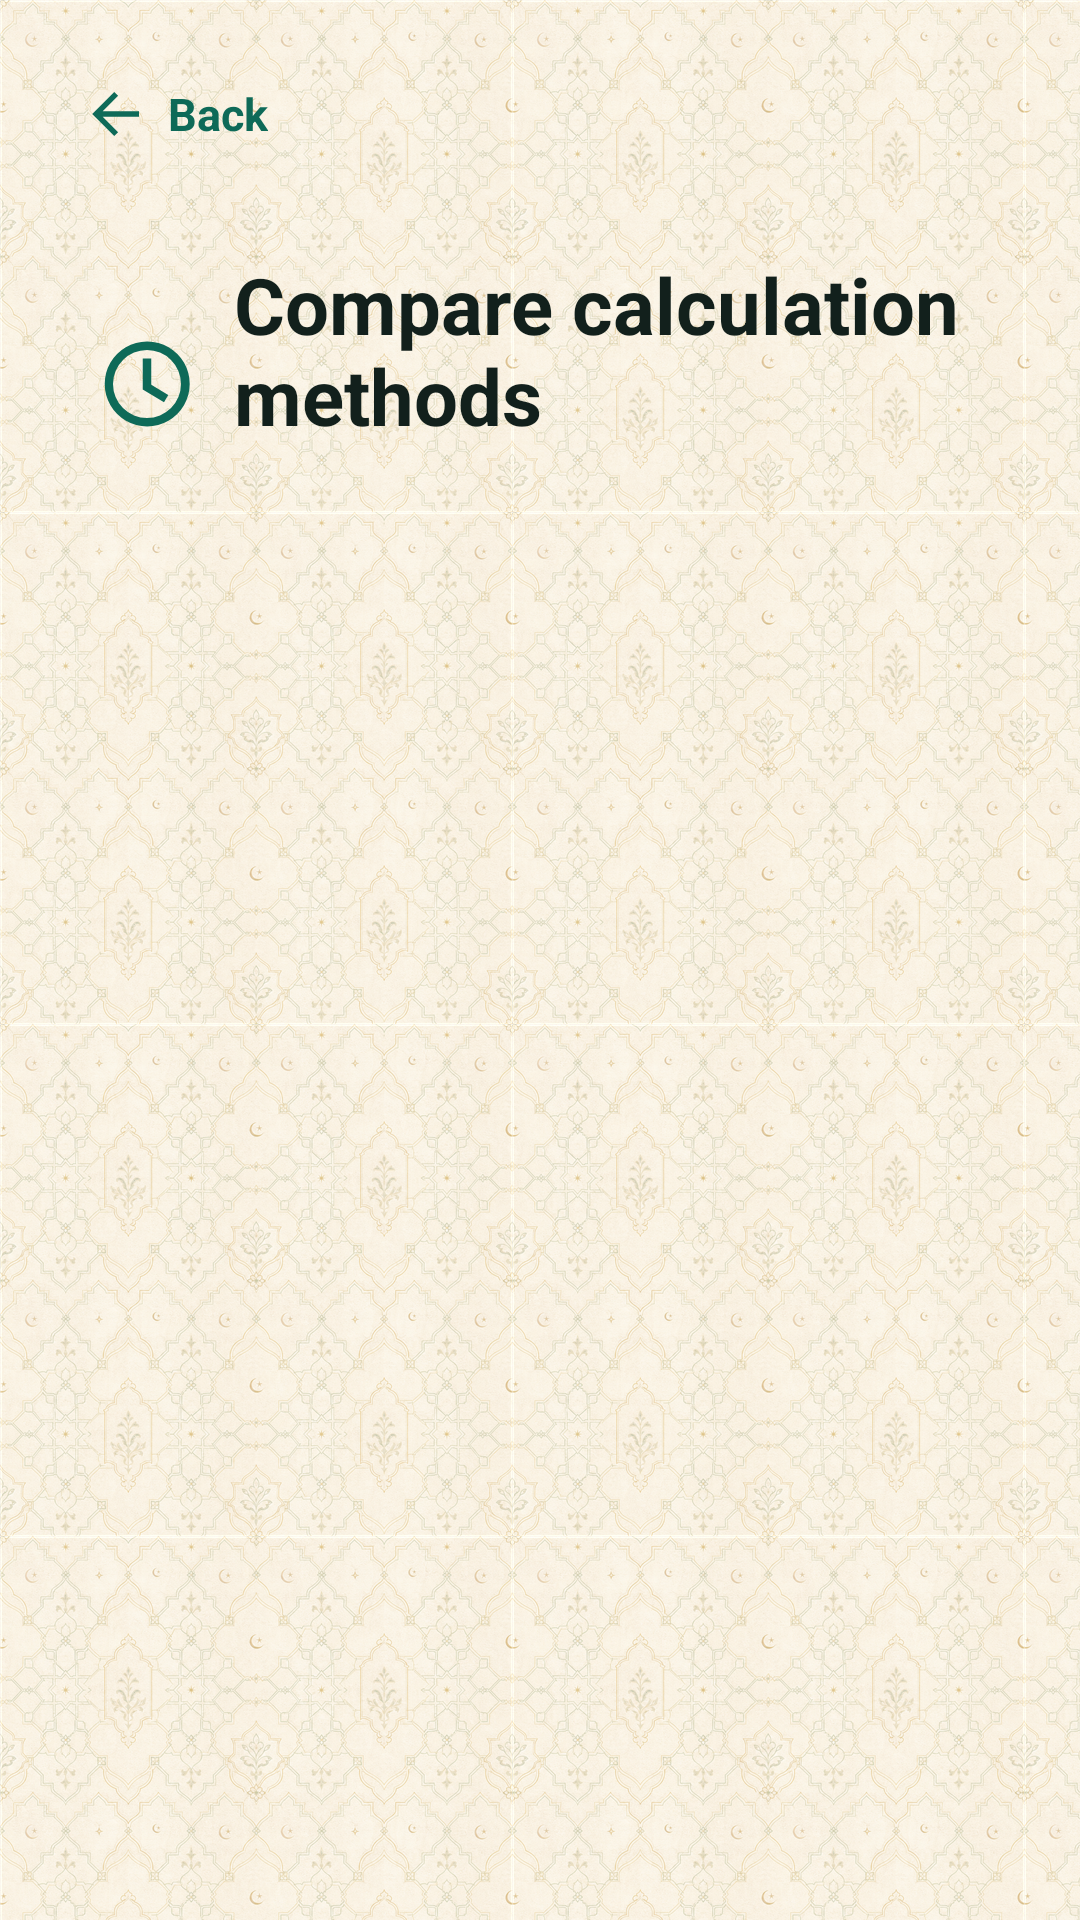

Where icons sit on this 1080×1920 app screen, as (x1, y1, x2, y2):
clock: (96, 333, 198, 435)
